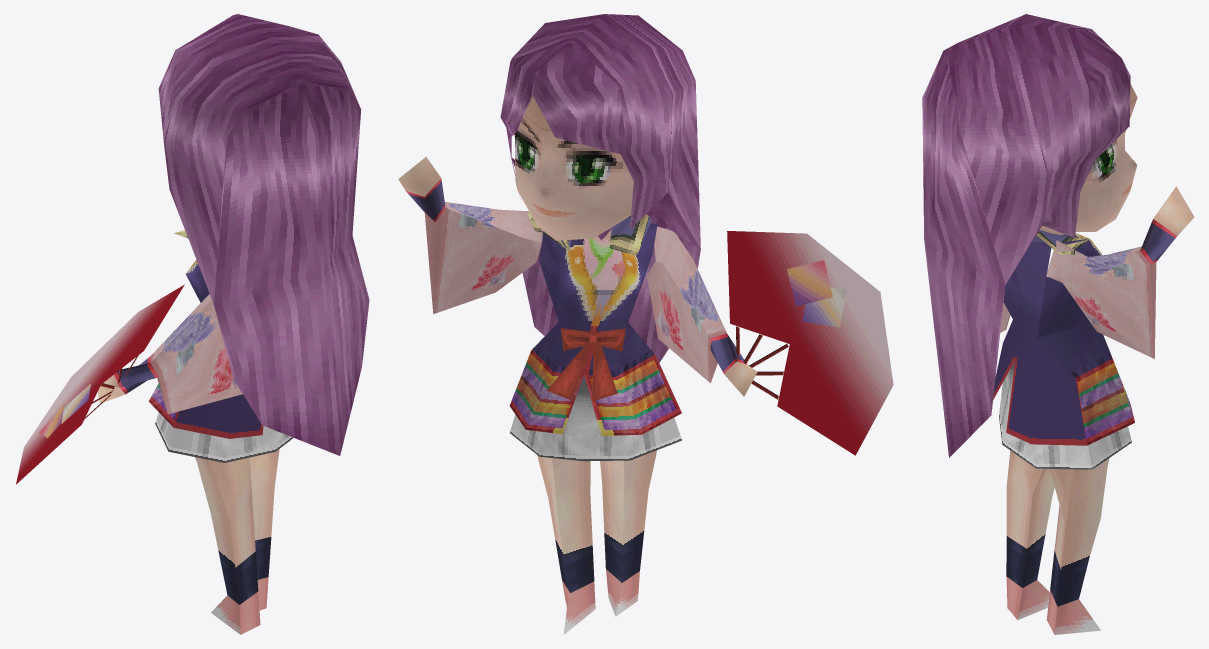
File: ps2_save-icons_harukanarutokinonakade3-izayoiki.glb
The picture shows the model from 3 angles, left to right: view 1: azimuth 30°, elevation 25°; view 2: azimuth 150°, elevation 25°; view 3: azimuth 270°, elevation 25°; orthographic projection. The views are drawn at different scales.
Parts seen in each view (by area): view 1: HARUKA3.ICO; view 2: HARUKA3.ICO; view 3: HARUKA3.ICO.
Part boxes in pixels (left/top/right/bottom): HARUKA3.ICO: left=16, top=14, right=369, bottom=634; HARUKA3.ICO: left=398, top=14, right=893, bottom=634; HARUKA3.ICO: left=922, top=14, right=1194, bottom=634.
Size of the model in its own units: 3.35 by 4.89 by 1.99.
Materials: 1 (1 with a texture image).
